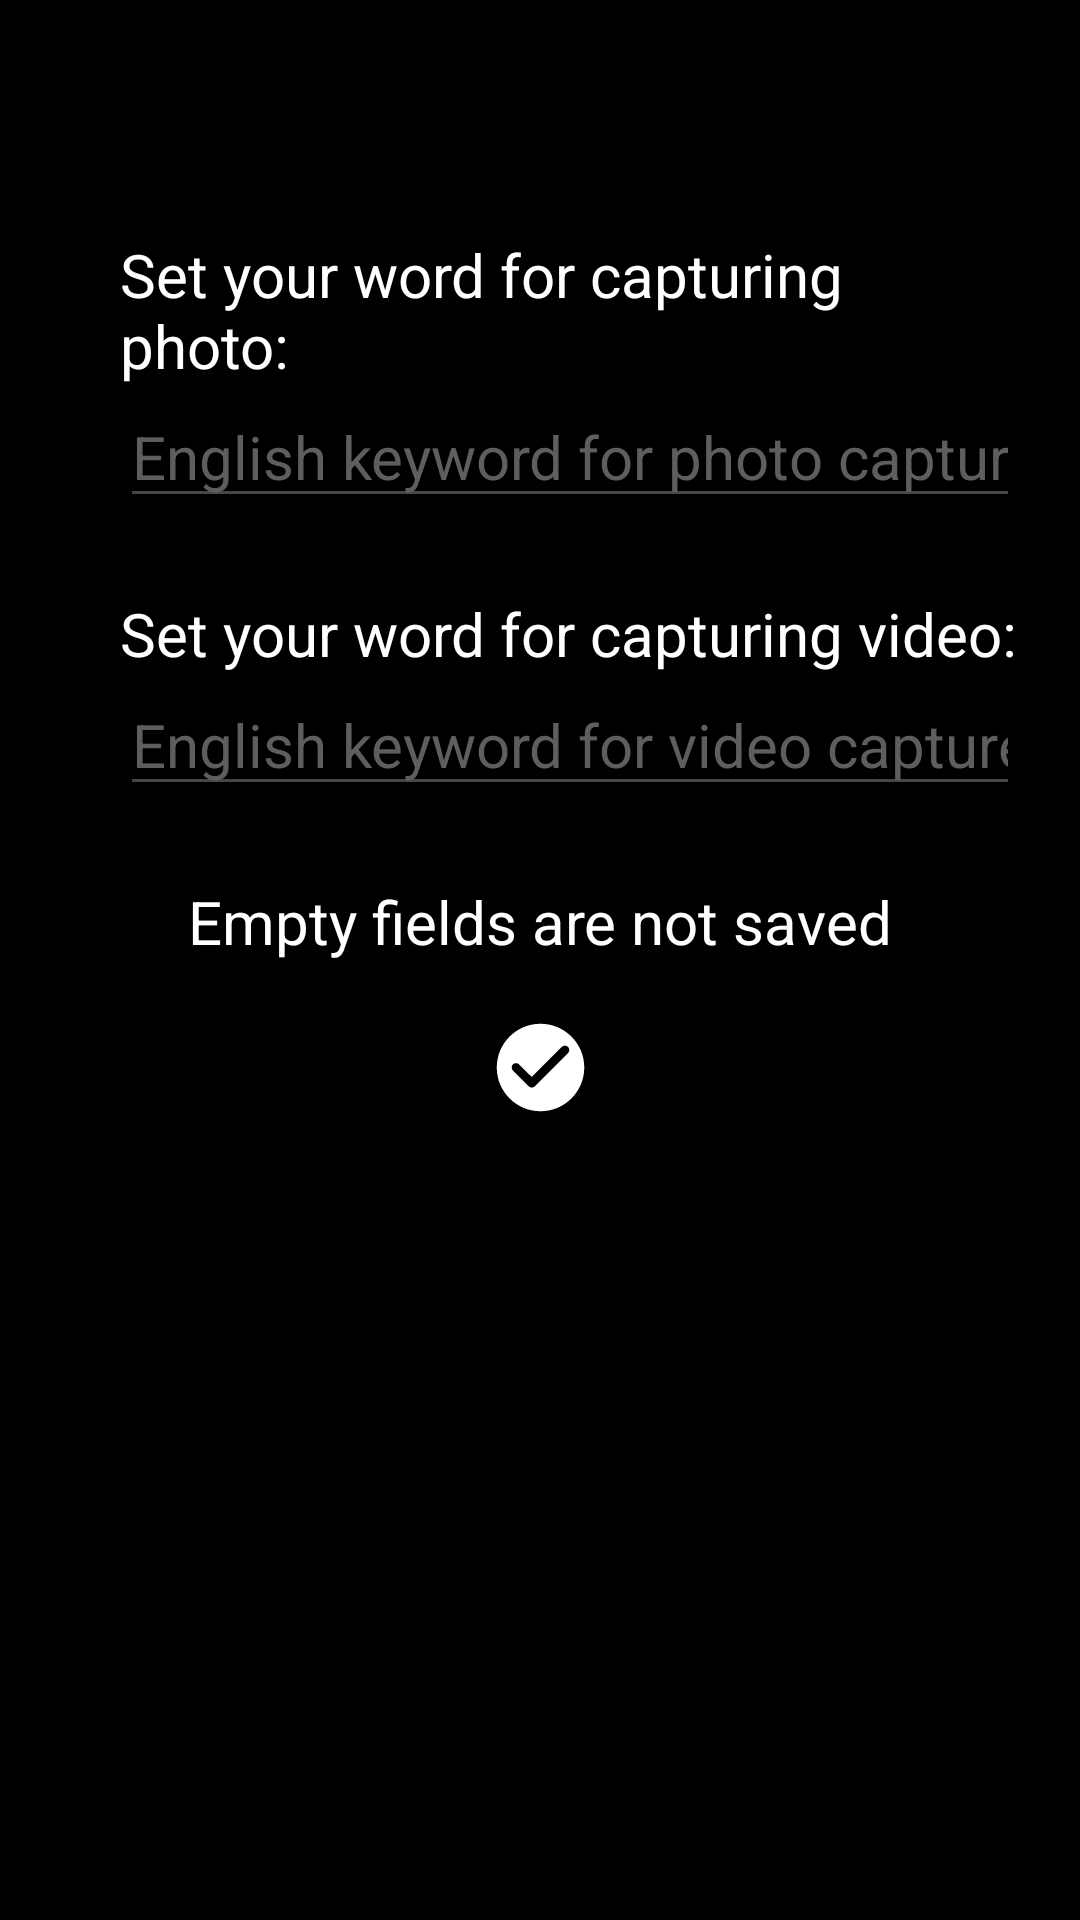

Icons on this 1080w x 1920h Android screen, each with the point to tap as [x,y]:
check circle: [540,1067]
